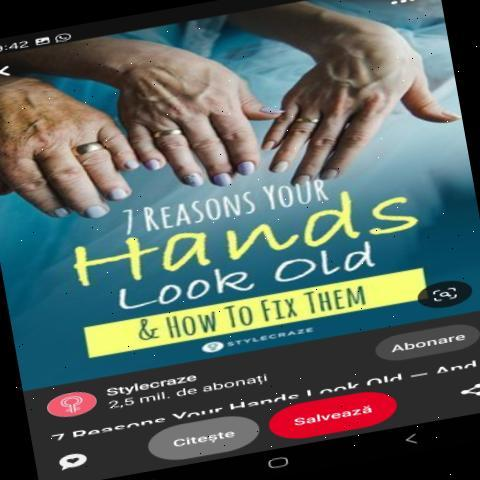Hands: (254, 39, 467, 204), (96, 40, 286, 207), (0, 82, 143, 244)
